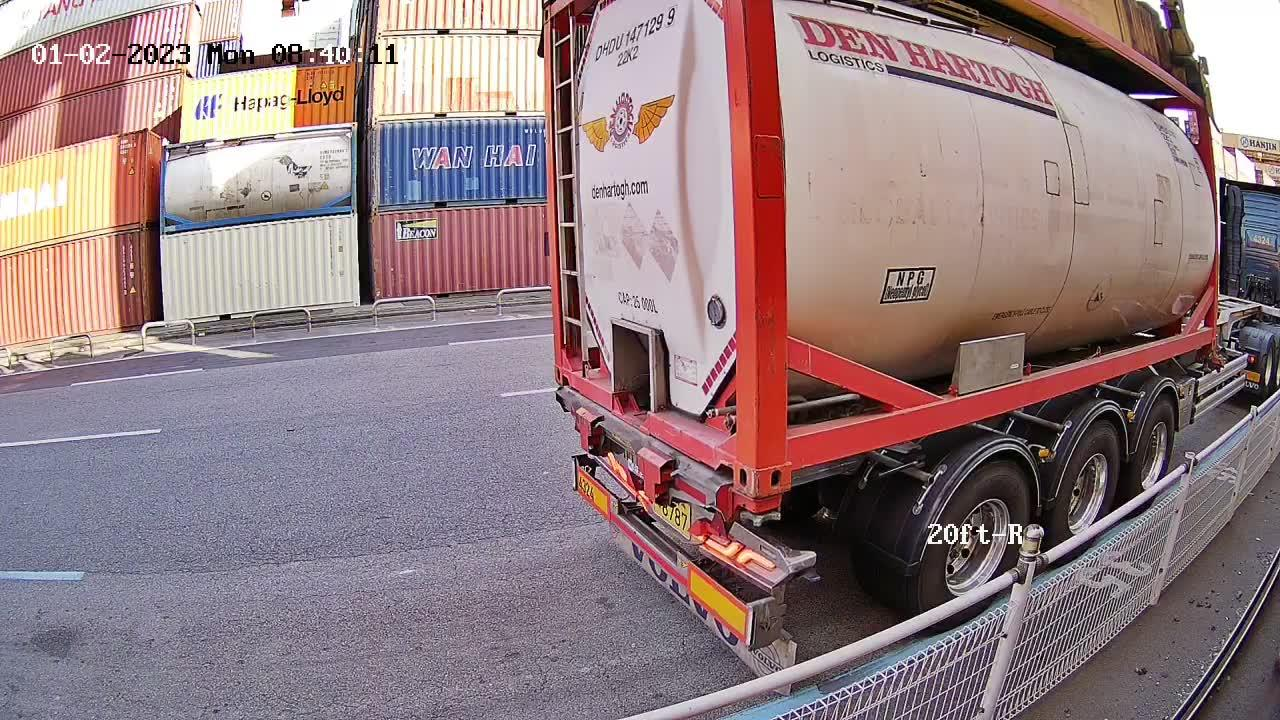Chassis: (556, 389, 761, 523)
Cone: (733, 493, 783, 527)
Hole_L: (756, 426, 817, 499), (551, 348, 581, 397)
Hole_R: (710, 420, 757, 499)
Tire: (920, 467, 1031, 627), (1051, 429, 1119, 559), (1131, 404, 1177, 506)
